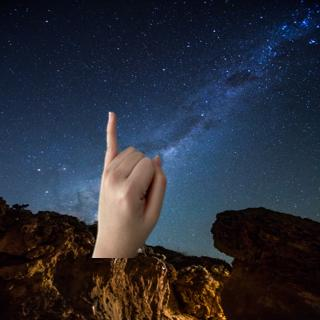Fine: (91, 102, 175, 263)
